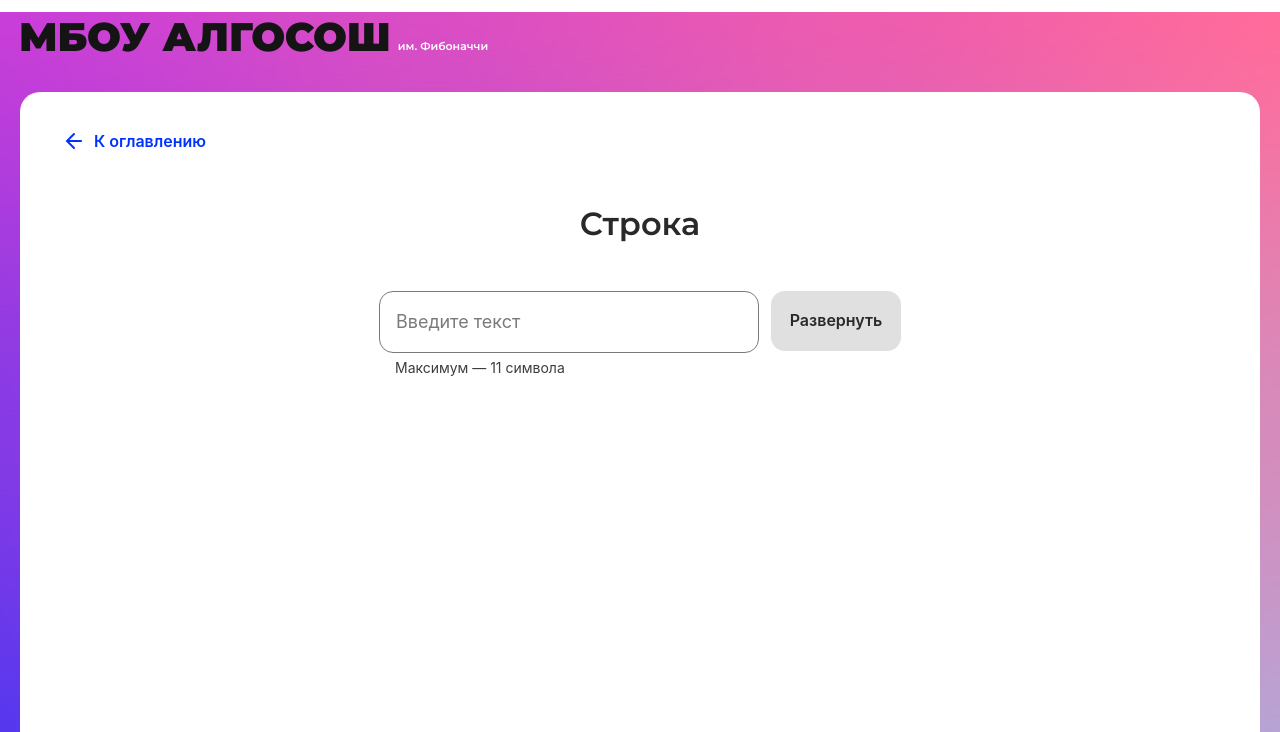
Test: Тесты страницы разворота строки › Проверка состояния кнопки › Кнопка верно меняет значение атрибута disabled
Expected: the button "Развернуть" is disabled, [771,291,901,351]
Type "test" into the field with placeholder "Введите текст" at (569, 322), box [379,291,759,353]
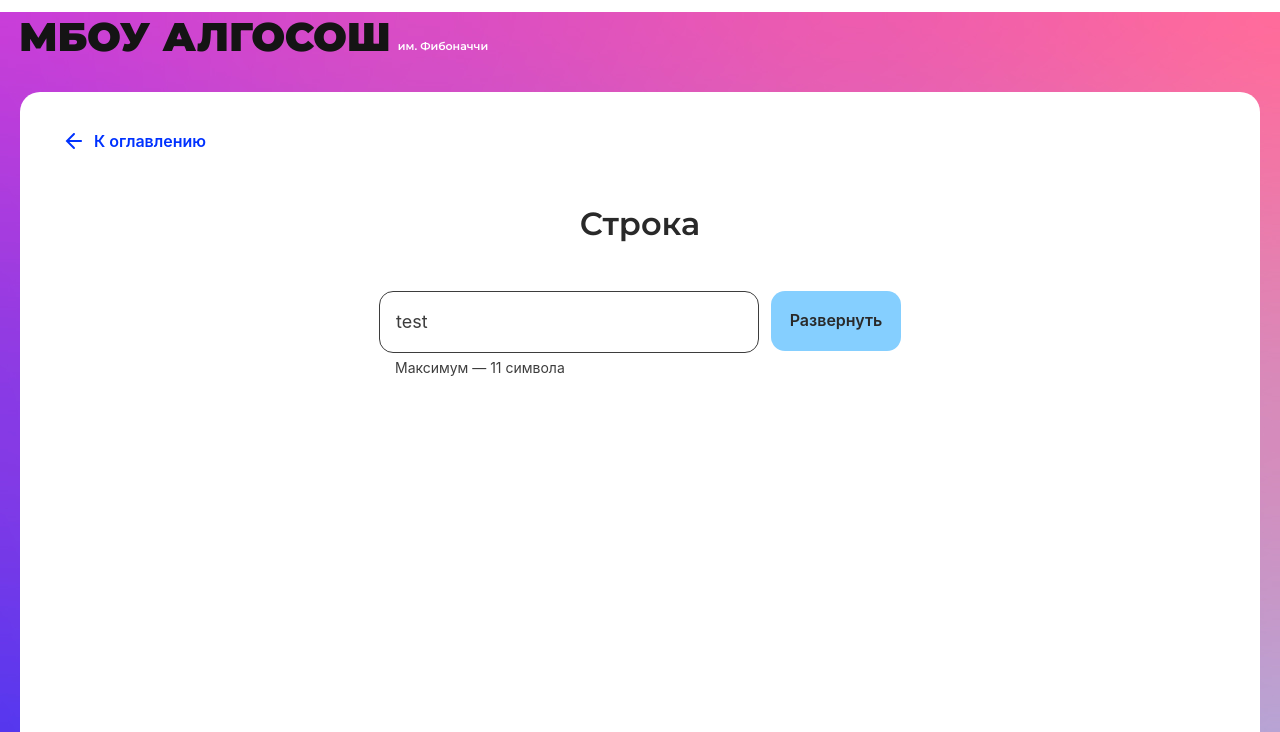
Expected: the text "Развернуть" is enabled
Clear the field at (569, 322), box [379,291,759,353]
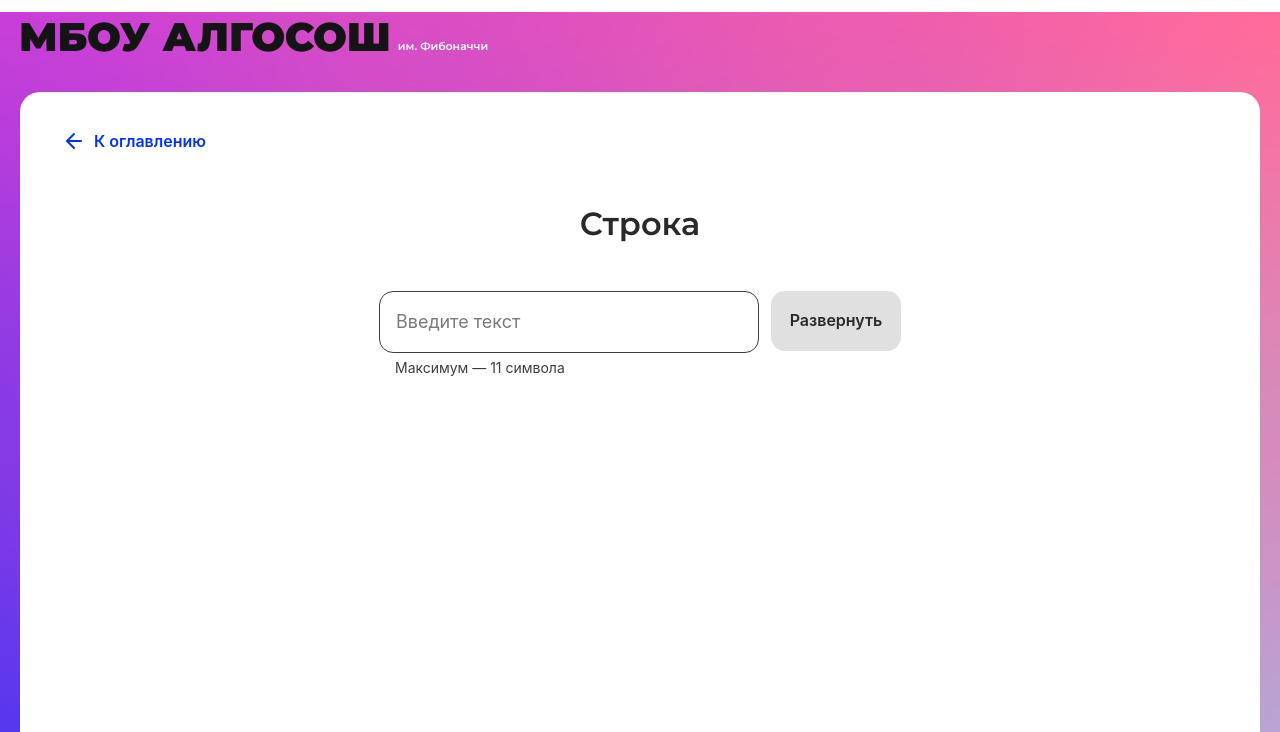
Expected: the button "Развернуть" is disabled, [771,291,901,351]
